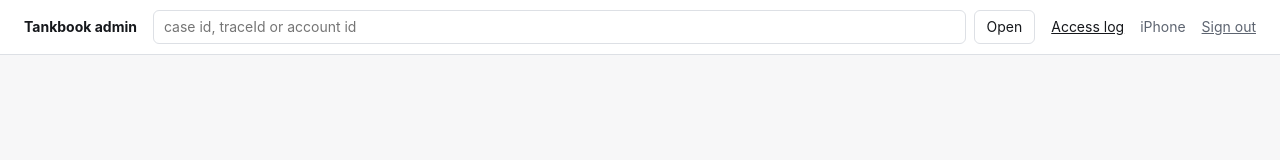
Test: lookup › says so when nothing has that exact id
This screenshot has width=1280, height=160.
Type "3f2a8c1e" into the field named "Lookup". click: {"x": 559, "y": 27}
box: [153,10,966,44]
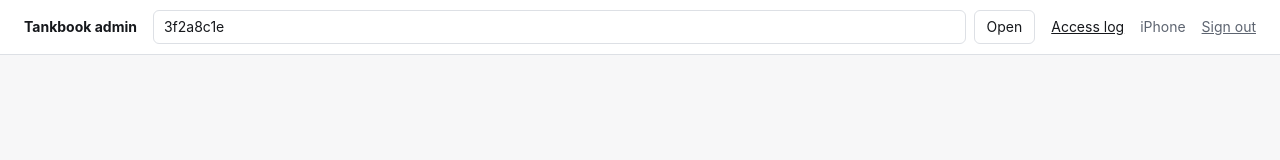
Click the button "Open". click: {"x": 1004, "y": 27}
box: [974,10,1035,44]
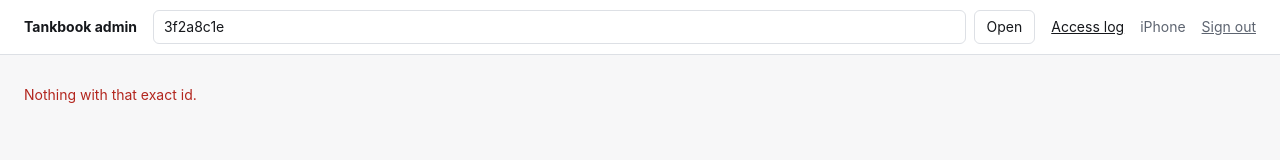
expect the text "Nothing with that exact id." is shown: met, box [24,86,197,103]
